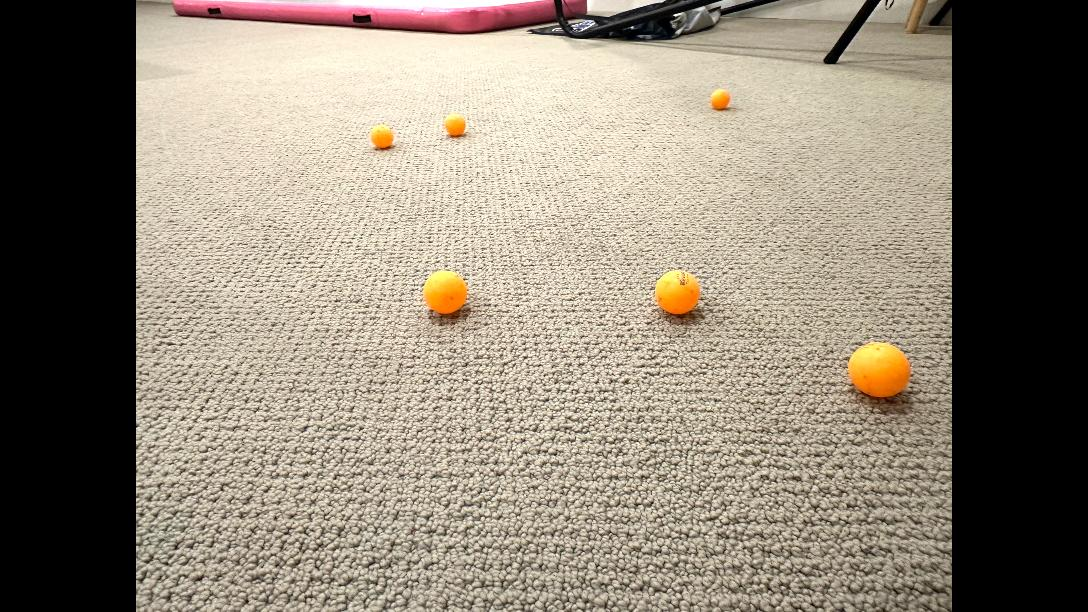Table-Tennis-Ball: (848, 344, 910, 396), (656, 270, 700, 312), (424, 270, 466, 312), (371, 124, 393, 146), (445, 114, 465, 134), (710, 90, 730, 108)
